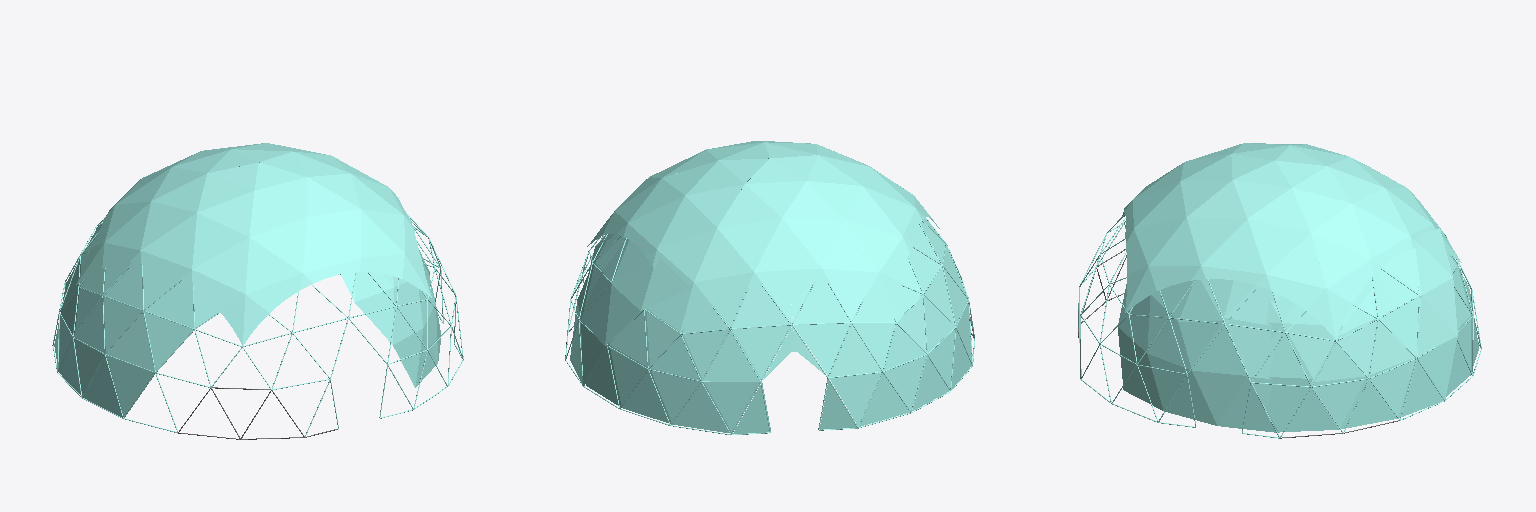
Rendered from dome.obj.
The picture shows the model from 3 angles: view 1: azimuth 30°, elevation 25°; view 2: azimuth 150°, elevation 25°; view 3: azimuth 270°, elevation 25°; orthographic projection.
Parts seen in each view (by area): view 1: Obj_1396, Obj_1388, Obj_1389, pasted__pasted__Obj_1396 pasted__group group1, Obj_1387, Obj_1391, Obj_1386; view 2: Obj_1396, Obj_1397, Obj_1391, Obj_1386, Obj_1389, pasted__Obj_1396 group, Obj_1387, Obj_1388, Obj_1393, Obj_1394; view 3: pasted__Obj_1396 group, pasted__pasted__Obj_1396 pasted__group group1, Obj_1387, Obj_1386, Obj_1388, Obj_1397, Obj_1391, Obj_1389.
Boxes of the visible parts, box(x1,y1,x2,y2) form: Obj_1396: box(54, 224, 219, 417); Obj_1388: box(243, 163, 431, 345); Obj_1389: box(76, 162, 258, 345); pasted__pasted__Obj_1396 pasted__group group1: box(341, 261, 440, 387); Obj_1387: box(260, 152, 431, 296); Obj_1391: box(77, 149, 257, 282); Obj_1386: box(204, 143, 325, 161); Obj_1396: box(789, 218, 971, 426); Obj_1397: box(584, 234, 792, 433); Obj_1391: box(680, 158, 898, 332); Obj_1386: box(587, 158, 769, 332); Obj_1389: box(771, 155, 936, 319); pasted__Obj_1396 group: box(570, 239, 689, 385); Obj_1387: box(597, 141, 769, 233); Obj_1388: box(760, 141, 939, 228); Obj_1393: box(733, 383, 770, 433); Obj_1394: box(820, 380, 856, 429); pasted__Obj_1396 group: box(1224, 228, 1457, 431); pasted__pasted__Obj_1396 pasted__group group1: box(1118, 279, 1376, 432); Obj_1387: box(1125, 161, 1335, 339); Obj_1386: box(1275, 161, 1460, 340); Obj_1388: box(1122, 154, 1274, 311); Obj_1397: box(1359, 253, 1478, 396); Obj_1391: box(1275, 144, 1461, 262); Obj_1389: box(1124, 143, 1302, 216).
Size of the model in its own units: 143 by 73.12 by 140.